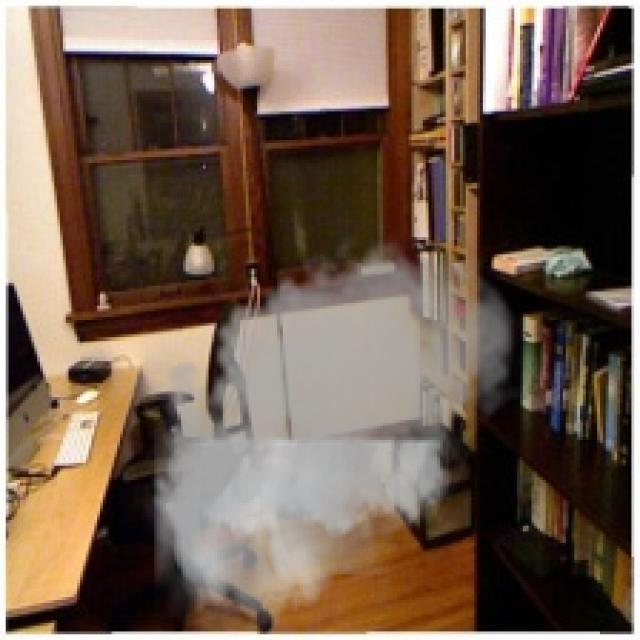Smoke: (140, 226, 523, 632)
